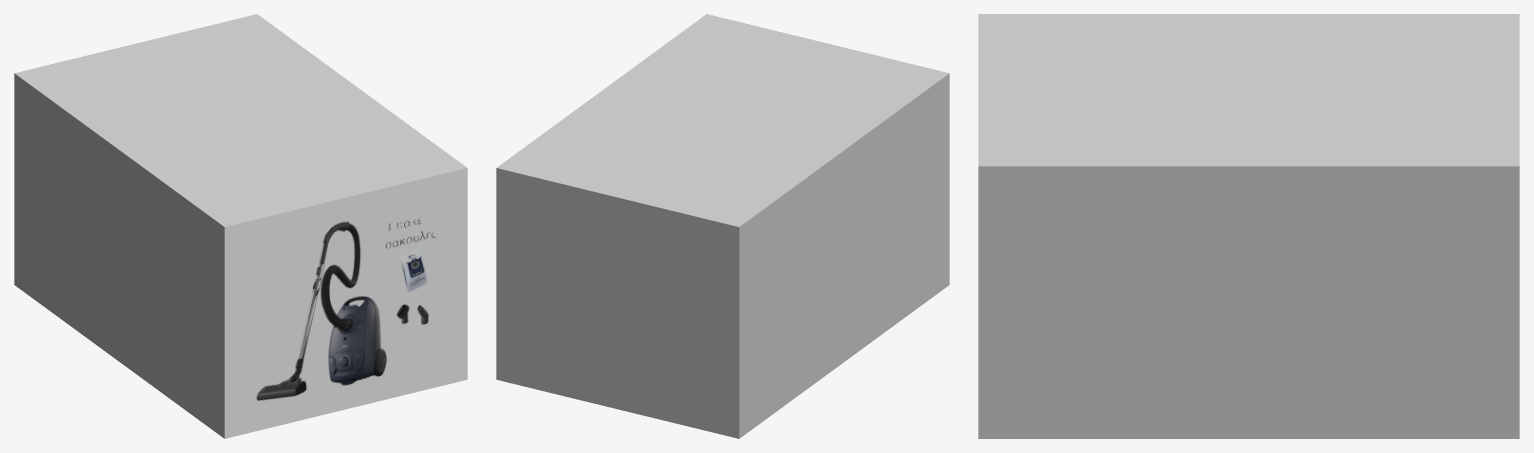
3 renders of one model, left to right at view 1: azimuth 30°, elevation 25°; view 2: azimuth 150°, elevation 25°; view 3: azimuth 270°, elevation 25°, orthographic. The views are drawn at different scales.
Parts seen in each view (by area): view 1: product; view 2: product; view 3: product.
Boxes of the visible parts, x1,y1,x2,y2 form: product: (14, 14, 467, 438); product: (496, 14, 949, 438); product: (978, 14, 1519, 438).
Size of the model in its own units: 0.3 by 0.25 by 0.45.
Materials: 2 (1 with a texture image).
